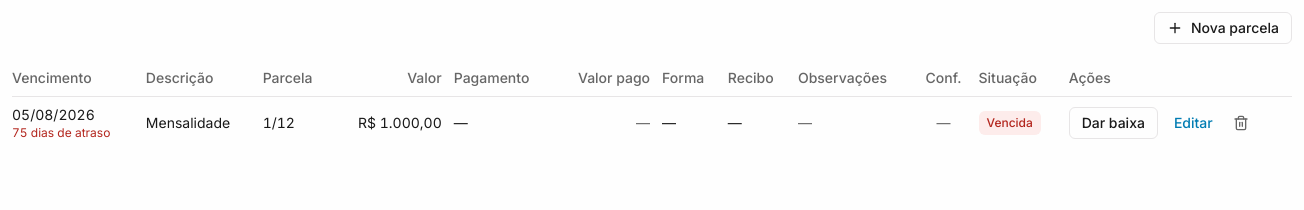
Extrato › mostra o erro devolvido pela ação
The image size is (1304, 210).
What coordinates should you click on to do the following:
click the button named "Apagar parcela"
I would click on:
 (1241, 123)
Its box is top-left (1229, 111), bottom-right (1253, 135).
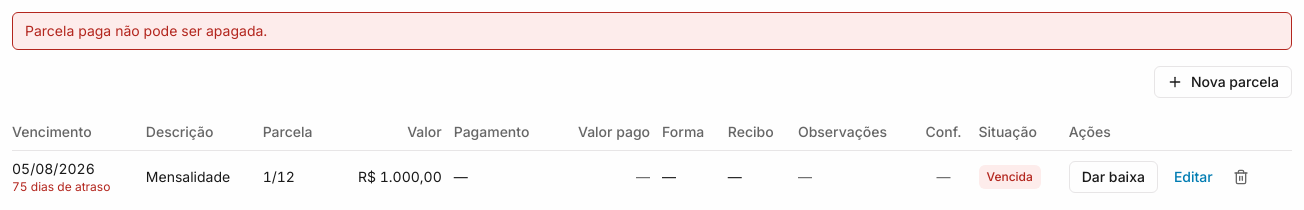
Now the message reads "Parcela paga não pode ser apagada.", box top-left (25, 22), bottom-right (267, 39)
